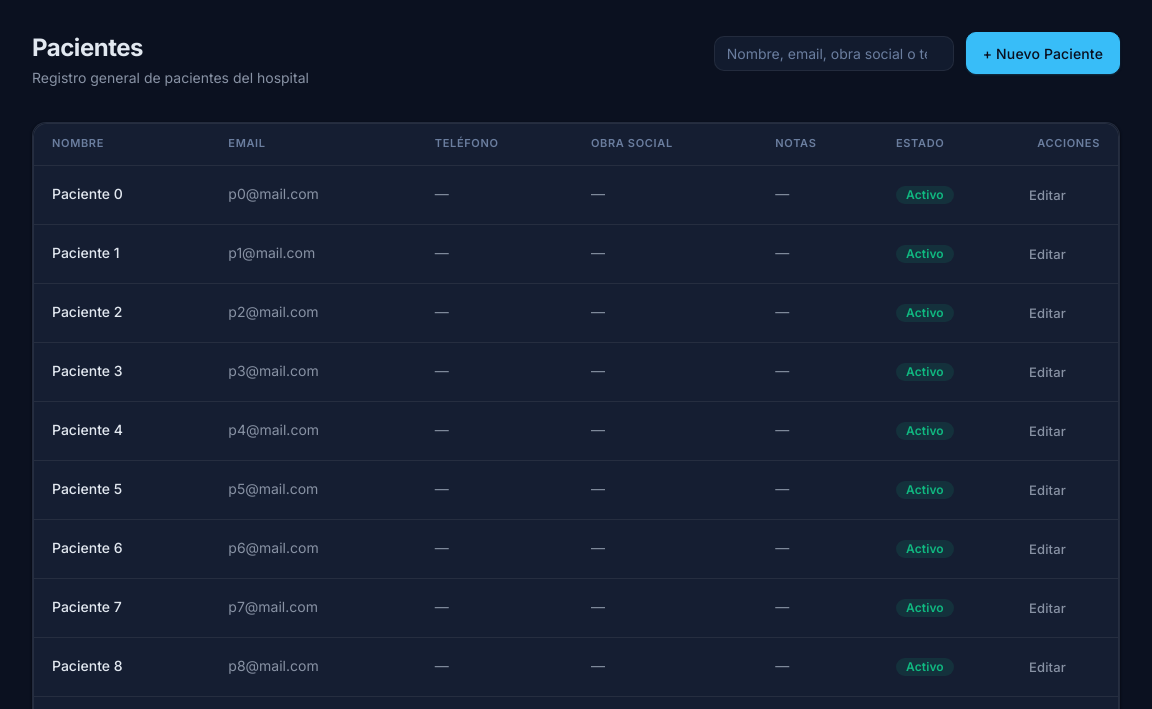
PatientsPage — búsqueda › busca en el servidor: encuentra a quien no está en la página cargada
The width and height of the screenshot is (1152, 709).
Expected: the text "Paciente 0" is shown, [52,185,123,202]
Type "zapata" into the search field at {"x": 834, "y": 53}, box [714,36,954,70]
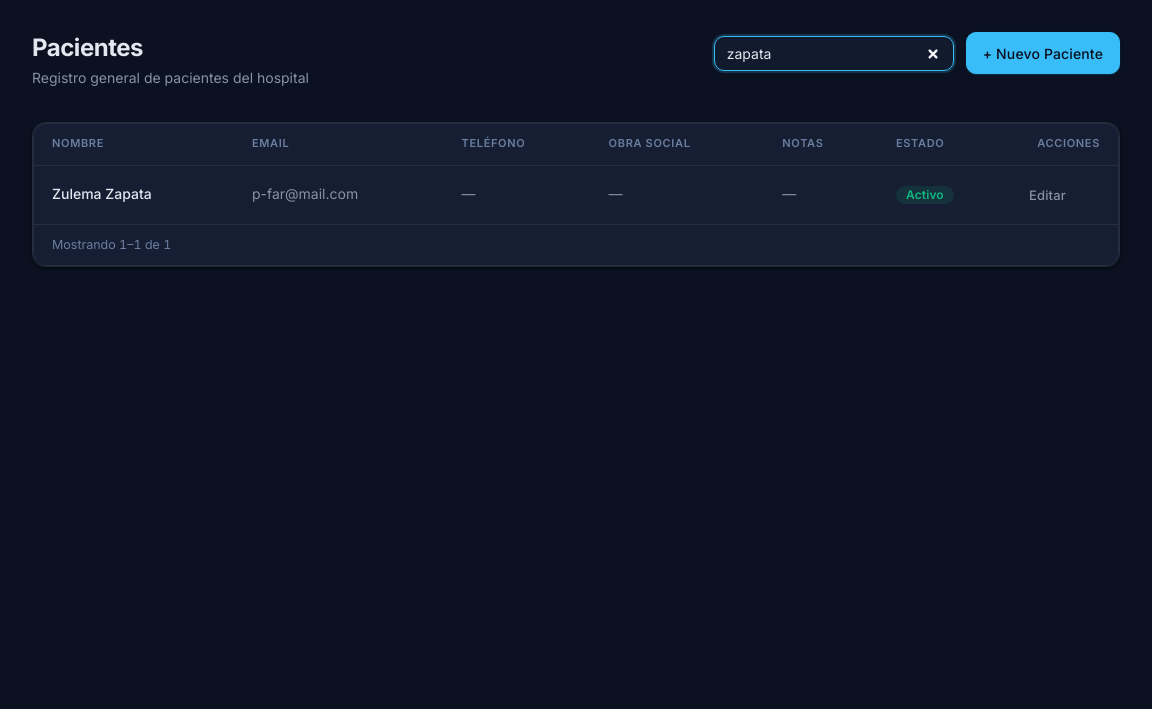
Result: the text "Zulema Zapata" is shown at [52,185,152,202]
Result: the text "Paciente 0" is gone
